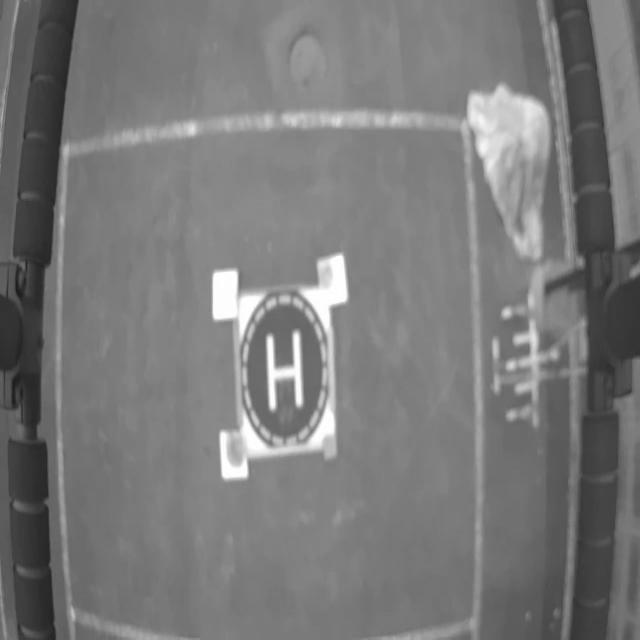Helipad: (266, 330, 304, 415)
